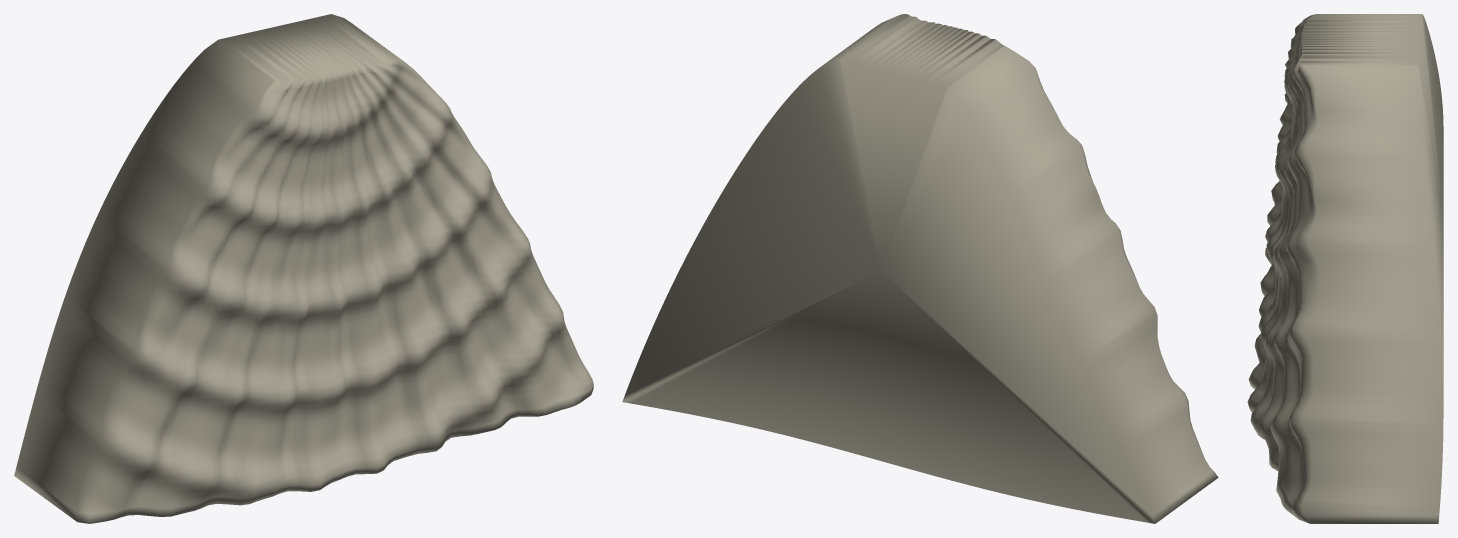
File: shatter-cone-rock.glb
The picture shows the model from 3 angles, left to right: view 1: azimuth 30°, elevation 25°; view 2: azimuth 150°, elevation 25°; view 3: azimuth 270°, elevation 25°; orthographic projection. The views are drawn at different scales.
Parts seen in each view (by area): view 1: original-nested-conical-fracture-face-with-aligned-feathered; view 2: original-nested-conical-fracture-face-with-aligned-feathered; view 3: original-nested-conical-fracture-face-with-aligned-feathered.
Boxes of the visible parts, x1=… form: original-nested-conical-fracture-face-with-aligned-feathered: x1=14, y1=14, x2=593, y2=523; original-nested-conical-fracture-face-with-aligned-feathered: x1=622, y1=14, x2=1218, y2=523; original-nested-conical-fracture-face-with-aligned-feathered: x1=1247, y1=14, x2=1443, y2=523.
Size of the model in its own units: 0.32 by 0.2287 by 0.11.
